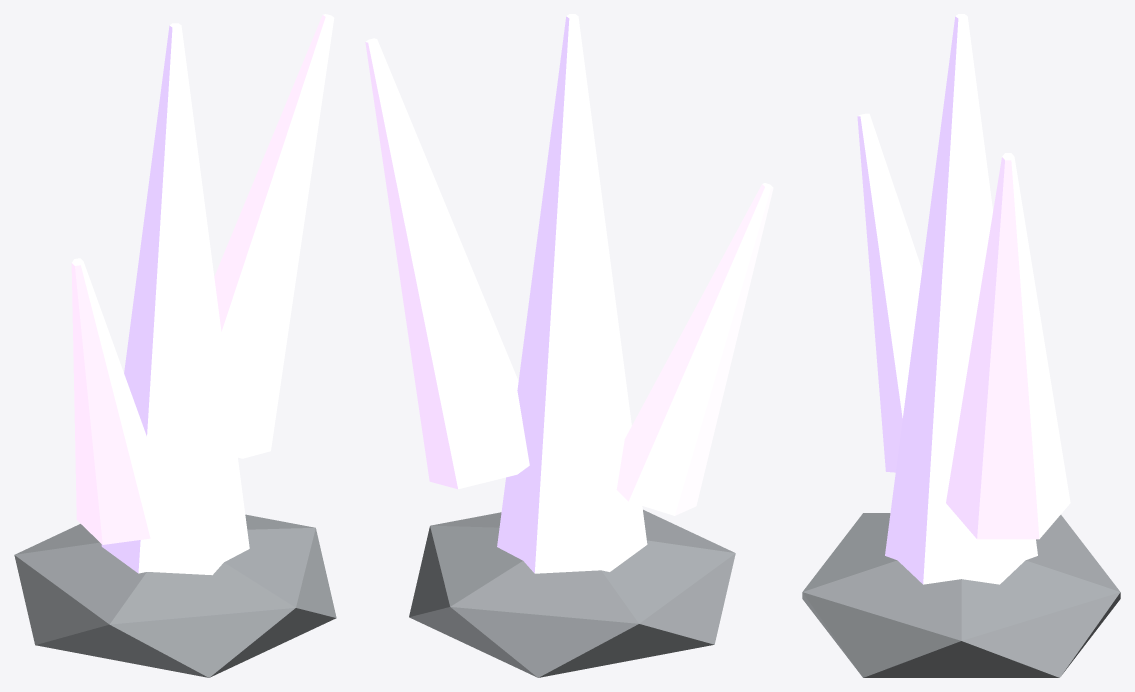
Rendered from crystal.glb.
3 views of the same model, side by side, from view 1: azimuth 30°, elevation 25°; view 2: azimuth 150°, elevation 25°; view 3: azimuth 270°, elevation 25° (orthographic). The views are drawn at different scales.
Visible parts, largest first — view 1: crystal; view 2: crystal; view 3: crystal.
Part boxes in pixels (box(x1,y1,x2,y2)): crystal: box(14, 14, 336, 677); crystal: box(365, 14, 773, 677); crystal: box(802, 14, 1120, 677).
Size of the model in its own units: 1.26 by 2.25 by 1.02.
